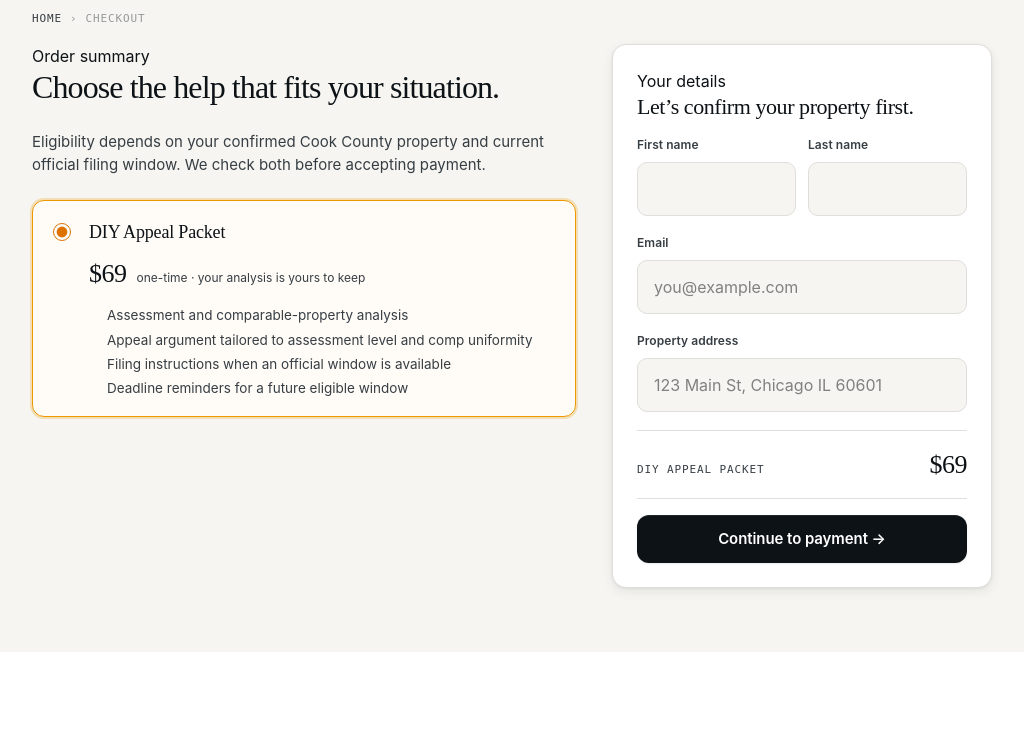
Test case: OT checkout filing-window UI › shows address choices and does not retain a payment CTA while the property is ambiguous
This screenshot has width=1024, height=739.
Type "Buyer" into the field labelled "First name" at (716, 189), box left=637, top=162, right=796, bottom=216
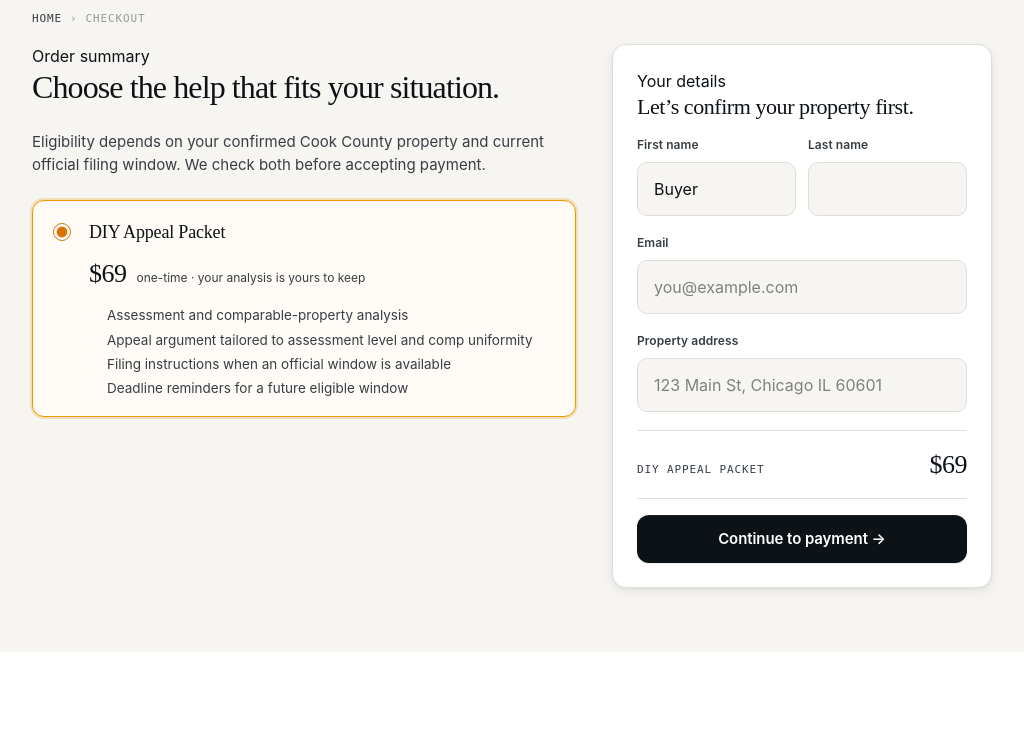
Type "Example" into the field labelled "Last name" at (888, 189), box left=808, top=162, right=967, bottom=216
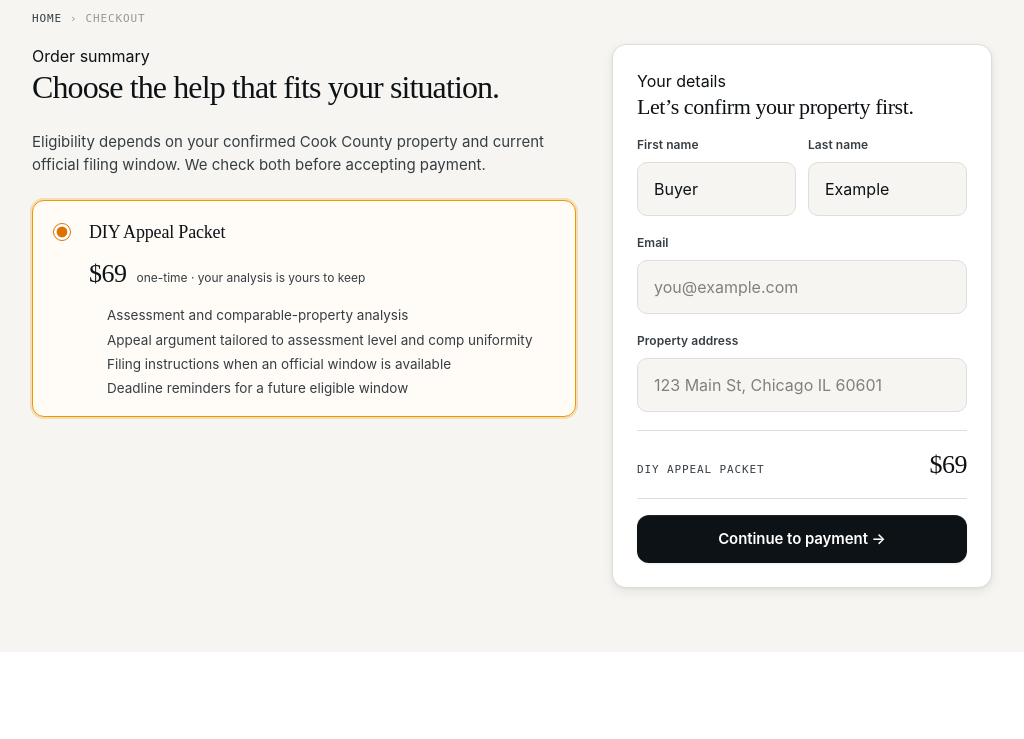
Type "buyer@example.com" into the field labelled "Email" at (802, 287), box left=637, top=260, right=967, bottom=314
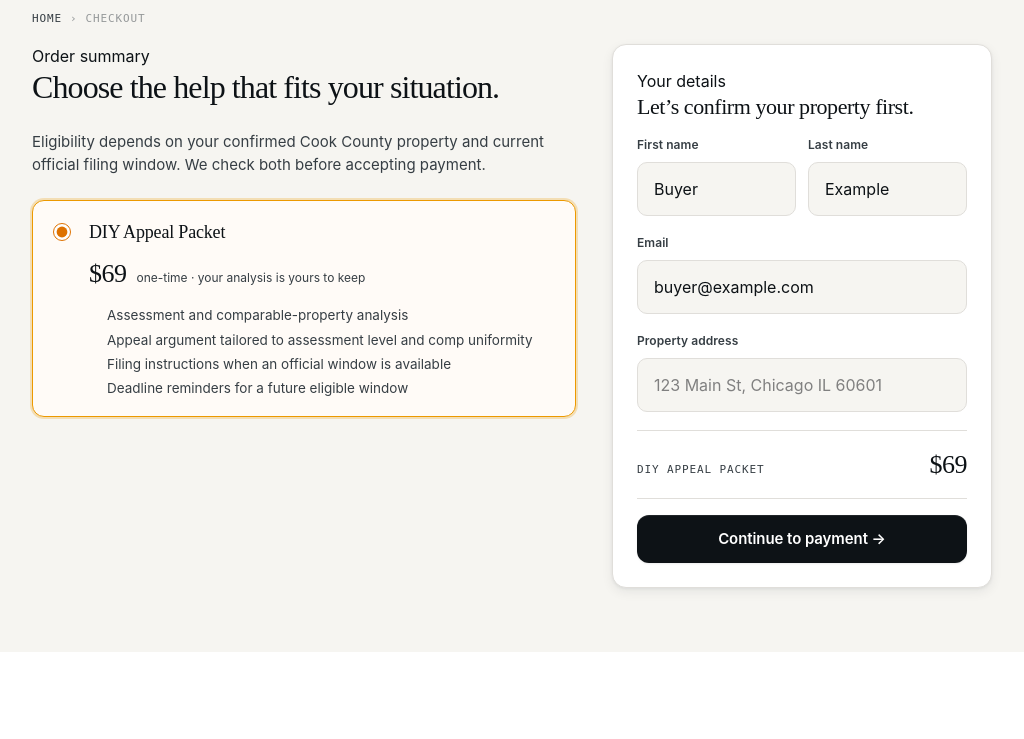
Type "2834 W Henderson St, Chicago IL 60618" into the field labelled "Property address" at (802, 385), box left=637, top=358, right=967, bottom=412
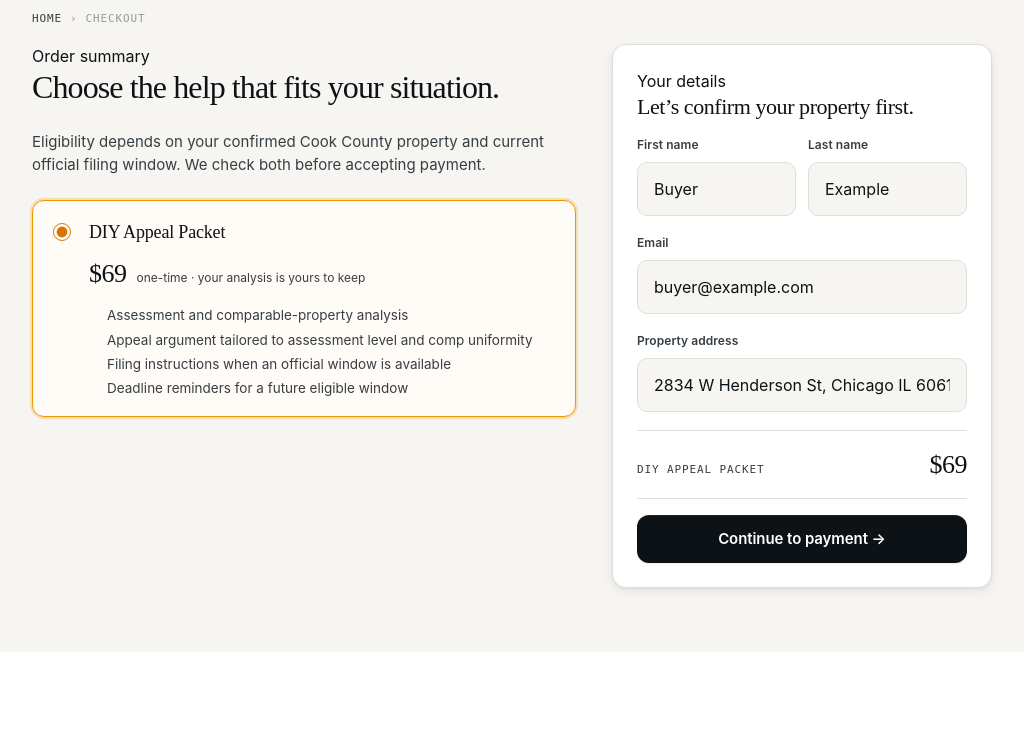
Click the button "Continue to payment →" at (802, 539), box left=637, top=515, right=967, bottom=563
(page scrolled)
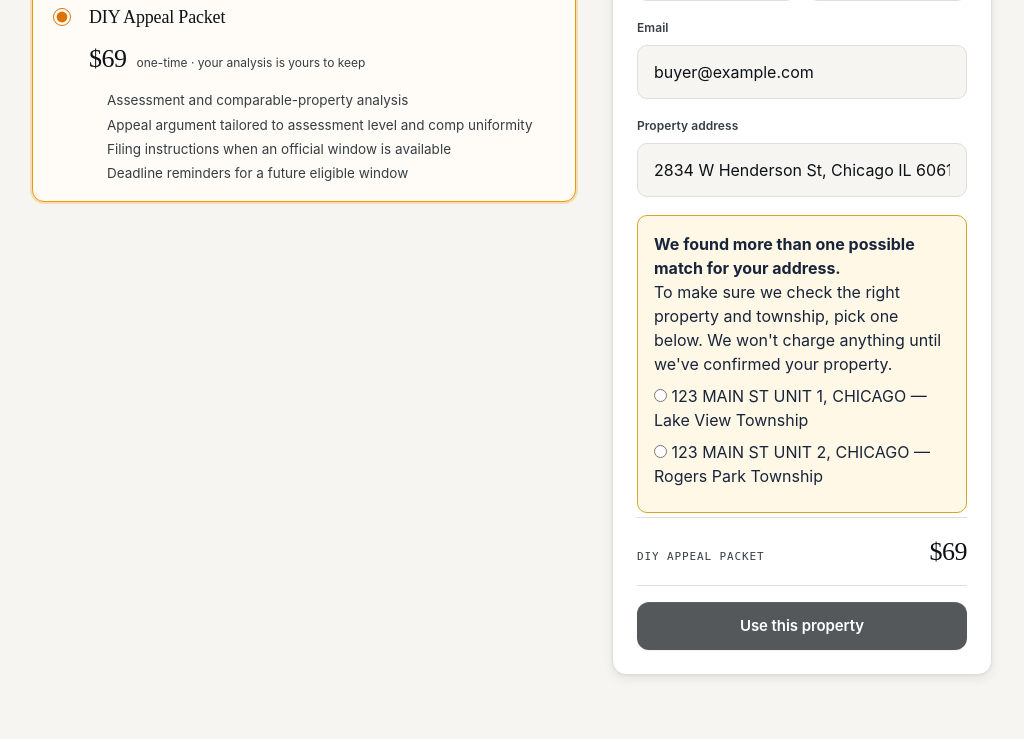
Result: the text "We found more than one possible match for your address." is shown at left=654, top=234, right=915, bottom=278
Result: the number of radio buttons labelled "123 MAIN ST UNIT 1, CHICAGO — Lake View Township" is 2 at left=654, top=389, right=667, bottom=402; left=654, top=445, right=667, bottom=458
Result: the button "Continue to payment" is gone
